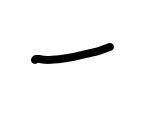minus: (30, 43, 113, 66)
